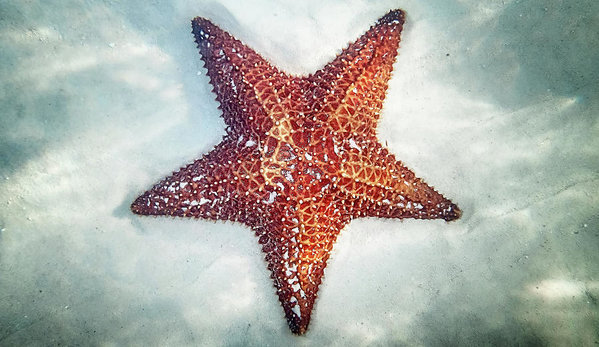starfish: (131, 6, 461, 334)
